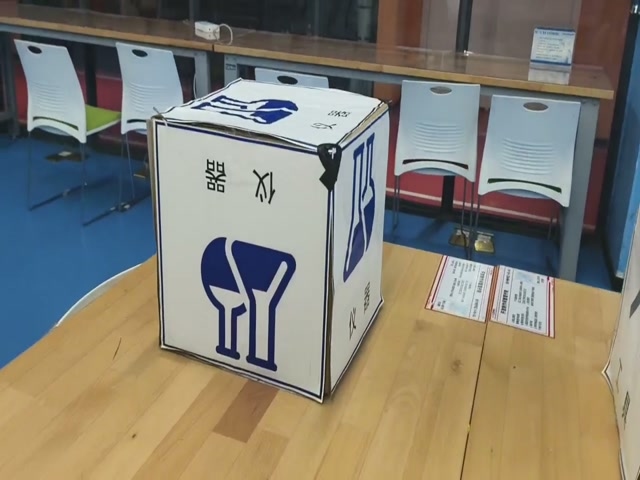Cube_ins: (153, 80, 387, 157)
